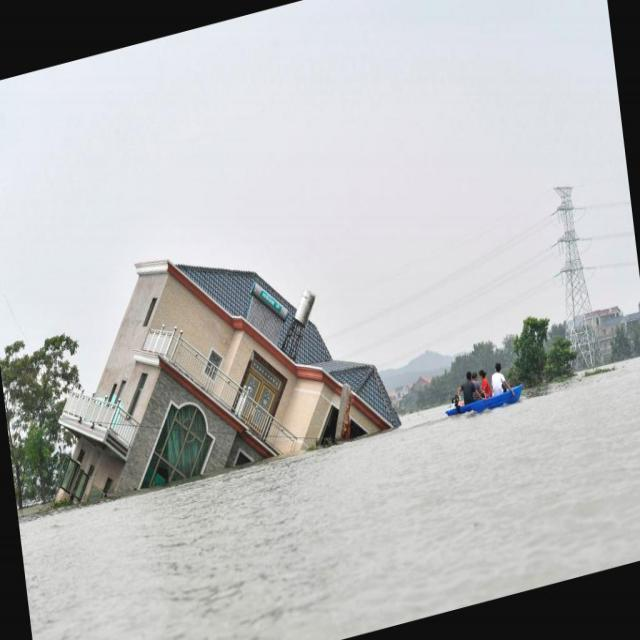flood: (20, 363, 640, 639)
